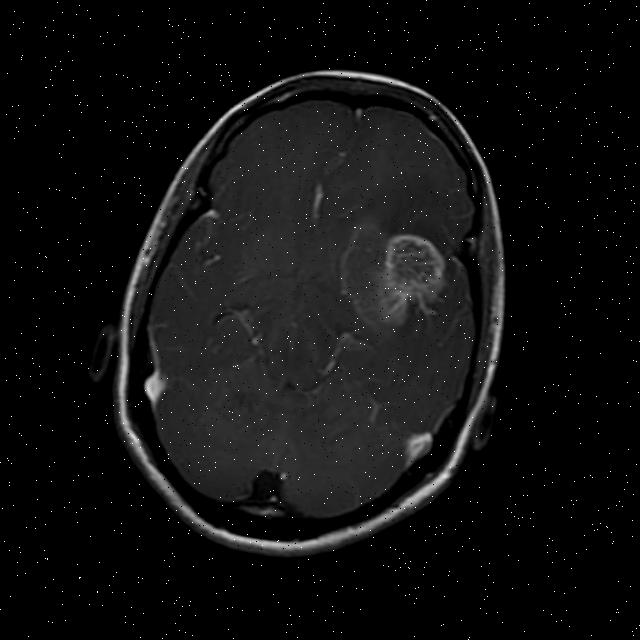Glioma: (328, 214, 456, 337)
